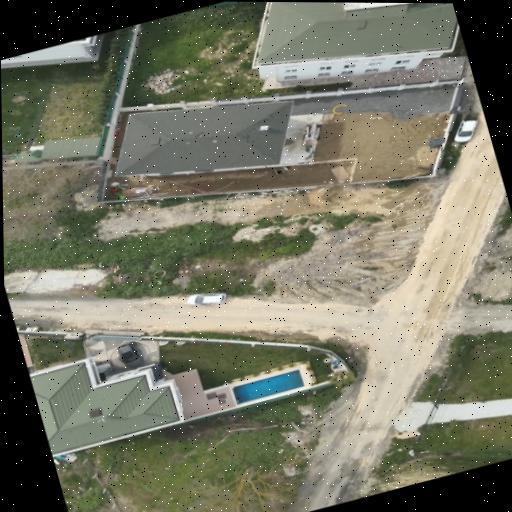car: (118, 344, 141, 367), (454, 120, 477, 142), (186, 293, 225, 305)
